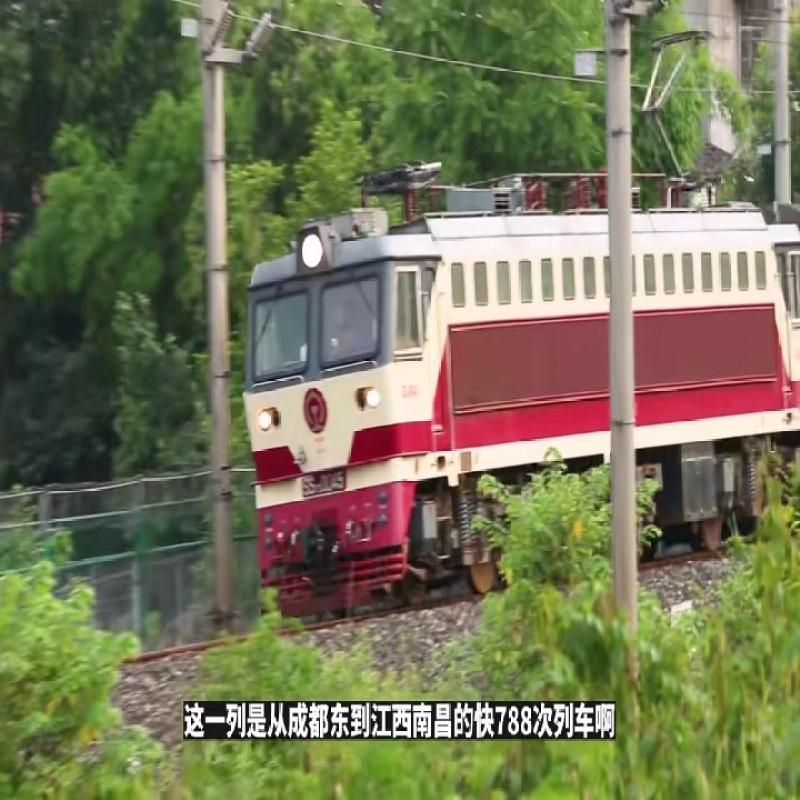train: (222, 192, 784, 608)
